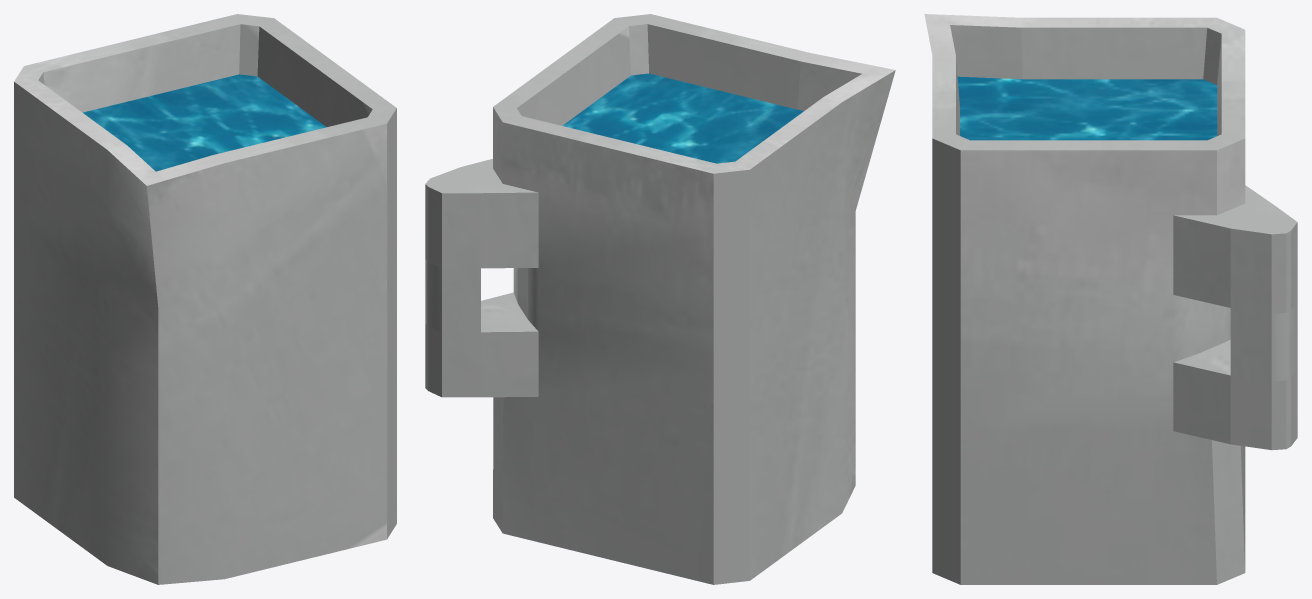
The model's file is jug_glass.FBX.
3 views of the same model, side by side, from view 1: azimuth 30°, elevation 25°; view 2: azimuth 150°, elevation 25°; view 3: azimuth 270°, elevation 25° (orthographic). The views are drawn at different scales.
Visible parts, largest first — view 1: Box001, Object001; view 2: Box001, Object001; view 3: Box001, Object001.
Part boxes in pixels (x1,y1,x2,y2): Box001: (14,14,396,584); Object001: (83,74,326,171); Box001: (425,14,895,584); Object001: (562,73,803,163); Box001: (924,14,1297,584); Object001: (957,76,1217,140).
Bounding box in the file's own units: 96.2 × 126 × 97.69.
Materials: 2 (2 with a texture image).
